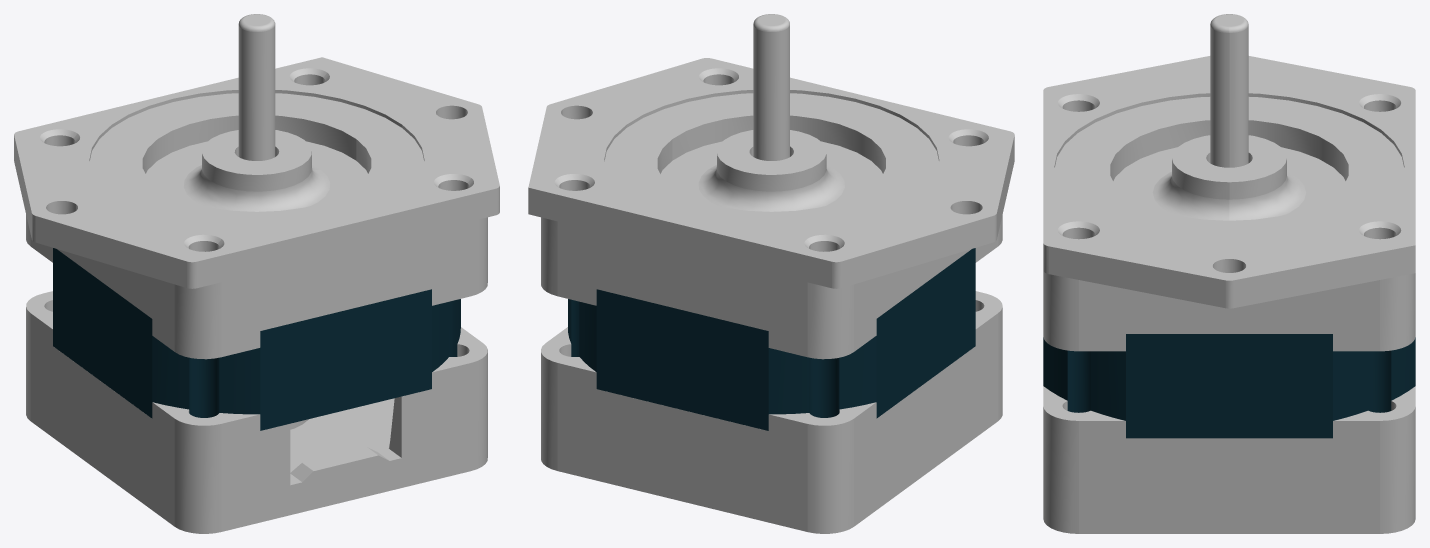
File: fc-step-em286.glb
The picture shows the model from 3 angles, left to right: view 1: azimuth 30°, elevation 25°; view 2: azimuth 150°, elevation 25°; view 3: azimuth 270°, elevation 25°; orthographic projection. The views are drawn at different scales.
Parts seen in each view (by area): view 1: 0.5833333333333334_0.5833333333333334_0.5833333333333334_0.8, 0_0_0.08333333333333333_0; view 2: 0.5833333333333334_0.5833333333333334_0.5833333333333334_0.8, 0_0_0.08333333333333333_0; view 3: 0.5833333333333334_0.5833333333333334_0.5833333333333334_0.8, 0_0_0.08333333333333333_0.
Part boxes in pixels (x1=…): 0.5833333333333334_0.5833333333333334_0.5833333333333334_0.8: x1=14, y1=14, x2=499, y2=533; 0_0_0.08333333333333333_0: x1=53, y1=248, x2=460, y2=430; 0.5833333333333334_0.5833333333333334_0.5833333333333334_0.8: x1=528, y1=14, x2=1014, y2=533; 0_0_0.08333333333333333_0: x1=568, y1=248, x2=975, y2=430; 0.5833333333333334_0.5833333333333334_0.5833333333333334_0.8: x1=1043, y1=14, x2=1415, y2=533; 0_0_0.08333333333333333_0: x1=1043, y1=334, x2=1415, y2=438.
Size of the model in its own units: 5.63 by 5 by 3.88.
